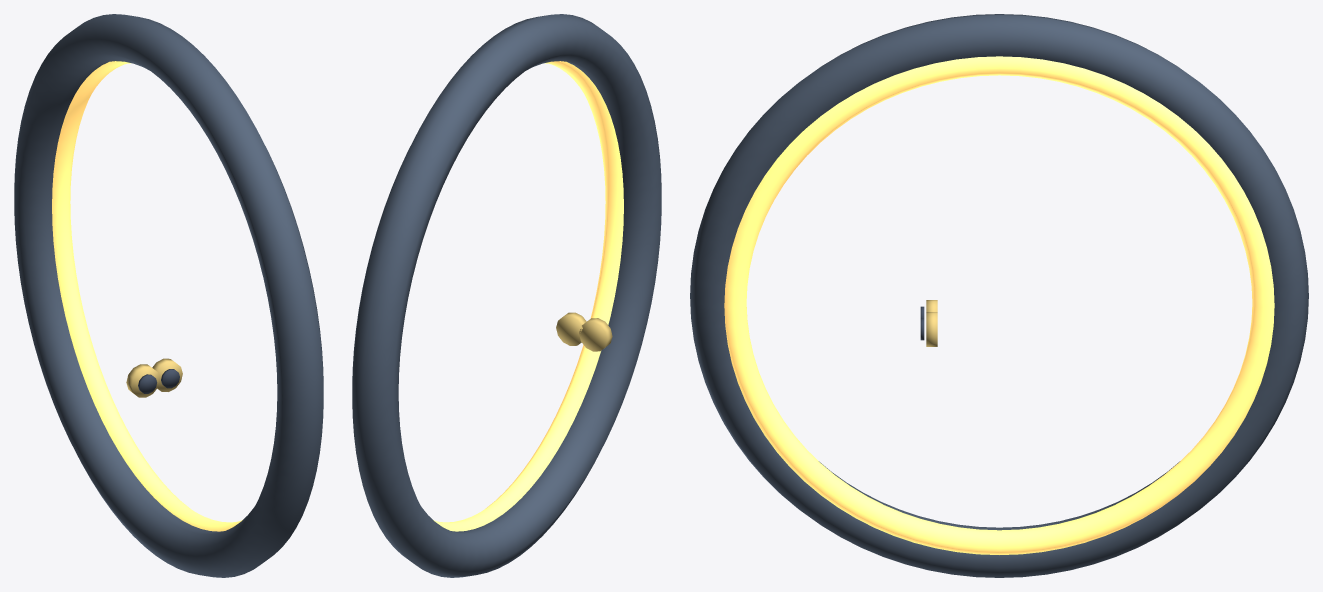
Rendered from 61_L85_PressureInterfaceSealGasket.glb.
3 renders of one model, left to right at view 1: azimuth 30°, elevation 25°; view 2: azimuth 150°, elevation 25°; view 3: azimuth 270°, elevation 25°, orthographic. The views are drawn at different scales.
Visible parts, largest first — view 1: L85_PressureInterfaceSealGask_Part_0000, L85_PressureInterfaceSealGask_Part_0001, L85_PressureInterfaceSealGask_Part_0002, L85_PressureInterfaceSealGask_Part_0004; view 2: L85_PressureInterfaceSealGask_Part_0000, L85_PressureInterfaceSealGask_Part_0001, L85_PressureInterfaceSealGask_Part_0002, L85_PressureInterfaceSealGask_Part_0004; view 3: L85_PressureInterfaceSealGask_Part_0000, L85_PressureInterfaceSealGask_Part_0001.
Part boxes in pixels (<box>): L85_PressureInterfaceSealGask_Part_0000: <box>14,14,323,577</box>; L85_PressureInterfaceSealGask_Part_0001: <box>52,61,242,531</box>; L85_PressureInterfaceSealGask_Part_0002: <box>126,364,159,397</box>; L85_PressureInterfaceSealGask_Part_0004: <box>152,358,182,391</box>; L85_PressureInterfaceSealGask_Part_0000: <box>352,14,661,577</box>; L85_PressureInterfaceSealGask_Part_0001: <box>433,61,623,531</box>; L85_PressureInterfaceSealGask_Part_0002: <box>579,318,612,351</box>; L85_PressureInterfaceSealGask_Part_0004: <box>556,312,586,345</box>; L85_PressureInterfaceSealGask_Part_0000: <box>690,14,1308,577</box>; L85_PressureInterfaceSealGask_Part_0001: <box>724,56,1274,554</box>.
Size of the model in its own units: 0.4338 by 2.29 by 2.29.
